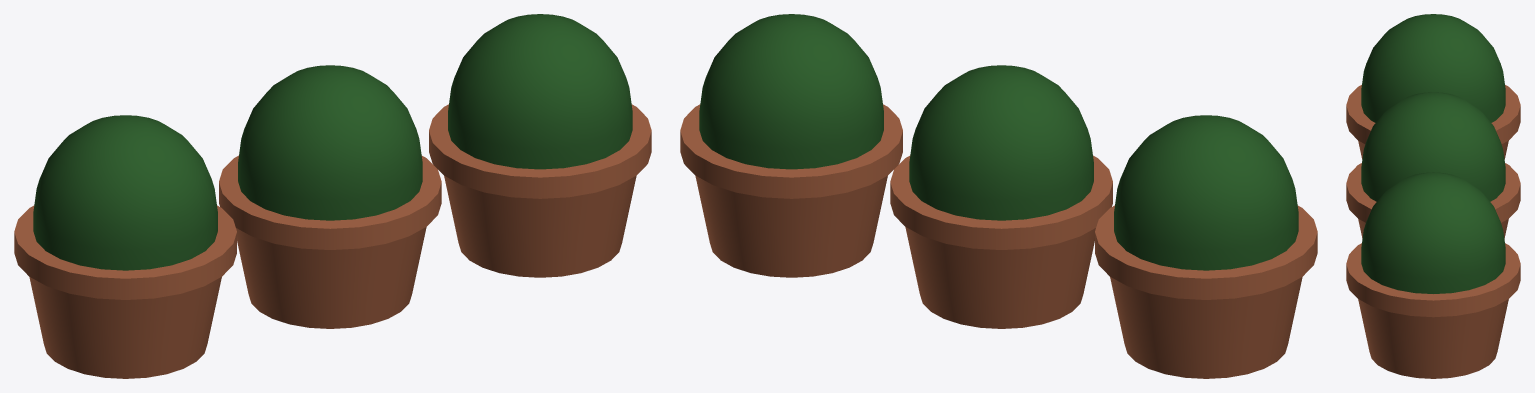
Rendered from object_B3_Plants_005.glb.
The picture shows the model from 3 angles, left to right: view 1: azimuth 30°, elevation 25°; view 2: azimuth 150°, elevation 25°; view 3: azimuth 270°, elevation 25°; orthographic projection. The views are drawn at different scales.
Parts seen in each view (by area): view 1: B3 Plants.005; view 2: B3 Plants.005; view 3: B3 Plants.005.
Part boxes in pixels (x1,y1,x2,y2): B3 Plants.005: [14, 14, 651, 378]; B3 Plants.005: [680, 14, 1317, 378]; B3 Plants.005: [1346, 14, 1520, 378].
Size of the model in its own units: 1.12 by 0.3915 by 0.3567.
